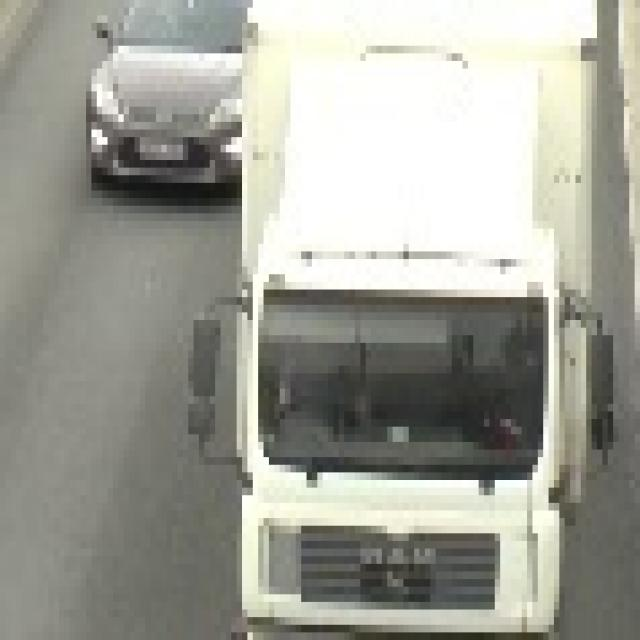Truck: (188, 0, 608, 625)
